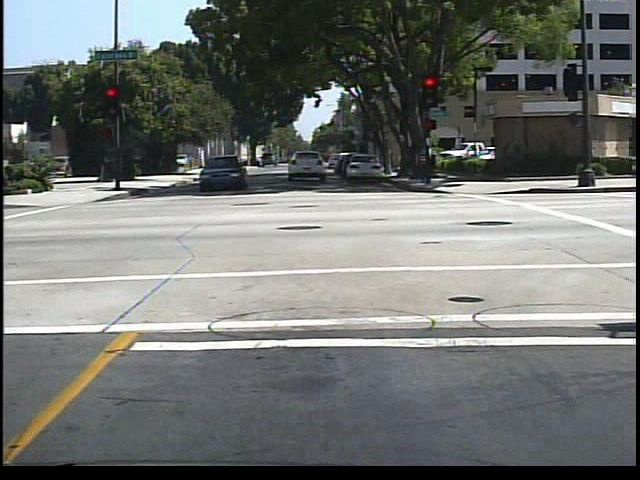person: (419, 137, 439, 186)
